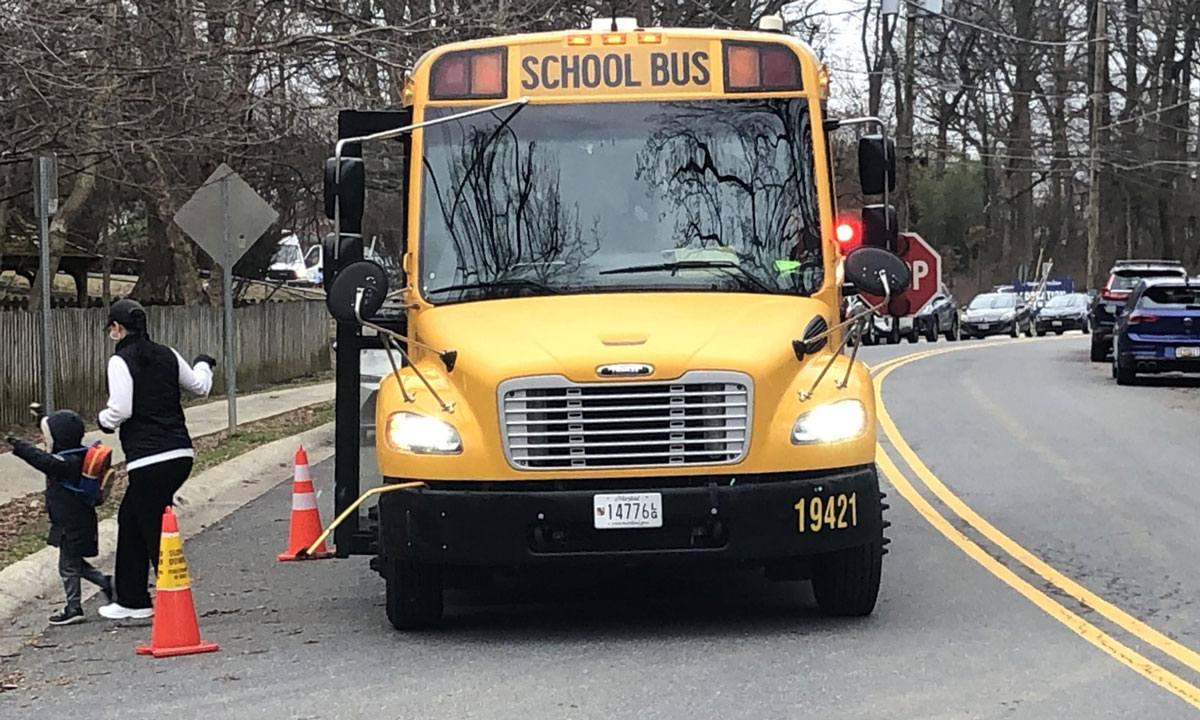Bus: (332, 16, 905, 635)
Person: (92, 298, 224, 628)
